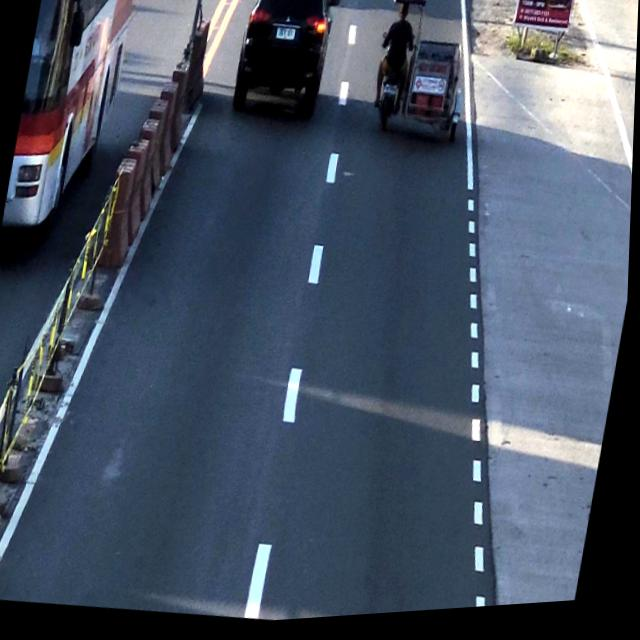Car: (228, 0, 345, 135)
License-Plate: (275, 26, 298, 48), (382, 85, 400, 104)
Tricycle: (361, 0, 485, 164)
